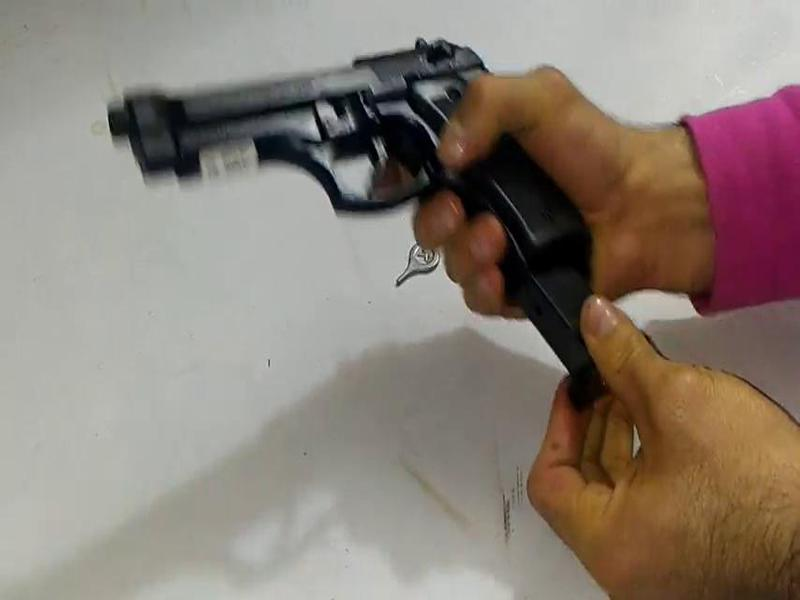Pistola: (98, 38, 654, 264)
